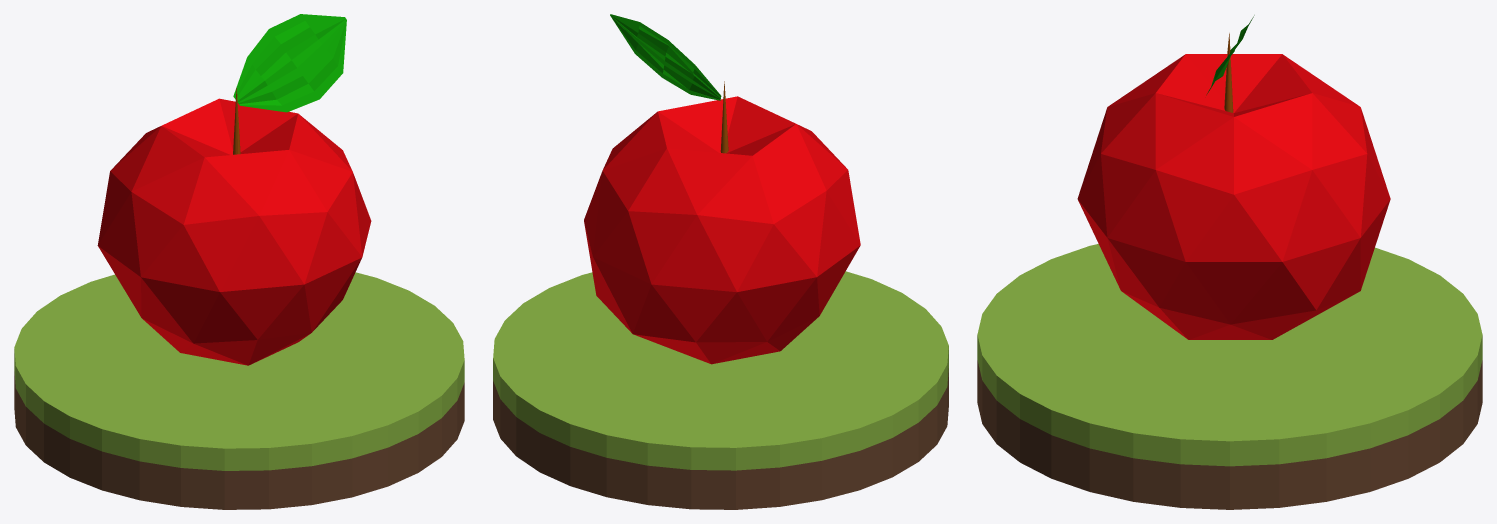
Rendered from apple-low-poly-01.fbx.
The picture shows the model from 3 angles, left to right: view 1: azimuth 30°, elevation 25°; view 2: azimuth 150°, elevation 25°; view 3: azimuth 270°, elevation 25°; orthographic projection. The views are drawn at different scales.
Visible parts, largest first — view 1: Cylinder.005, Maçã.003; view 2: Cylinder.005, Maçã.003; view 3: Cylinder.005, Maçã.003.
Part boxes in pixels (x1=…): Cylinder.005: x1=14, y1=272, x2=464, y2=509; Maçã.003: x1=97, y1=14, x2=371, y2=365; Cylinder.005: x1=493, y1=271, x2=948, y2=509; Maçã.003: x1=584, y1=14, x2=860, y2=364; Cylinder.005: x1=977, y1=244, x2=1482, y2=509; Maçã.003: x1=1077, y1=15, x2=1390, y2=339.
Size of the model in its own units: 200 by 184 by 200.
